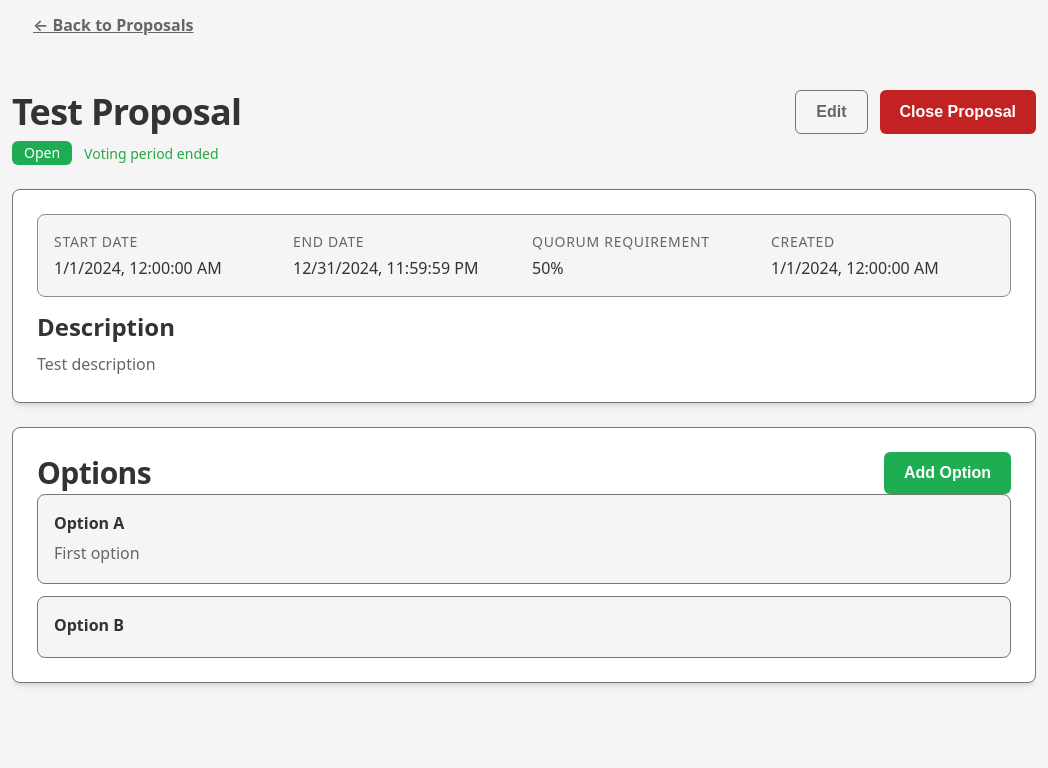
Test: AdminProposalDetailPage › cancels edit mode
The width and height of the screenshot is (1048, 768).
Step 1. Click the button "Edit" → (831, 112), box [795,90,868,134]
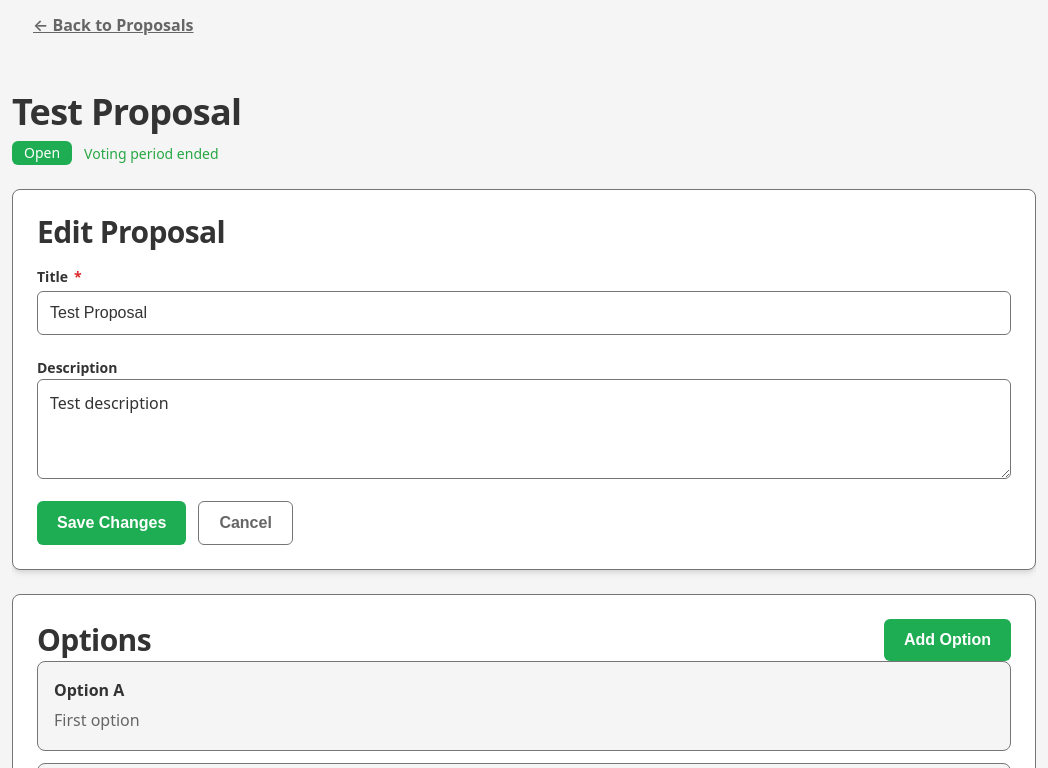
Check: the heading "Edit Proposal" is shown, box [37,211,225,252]
Step 2. Click the button "Cancel" → (246, 523), box [198,501,293,545]
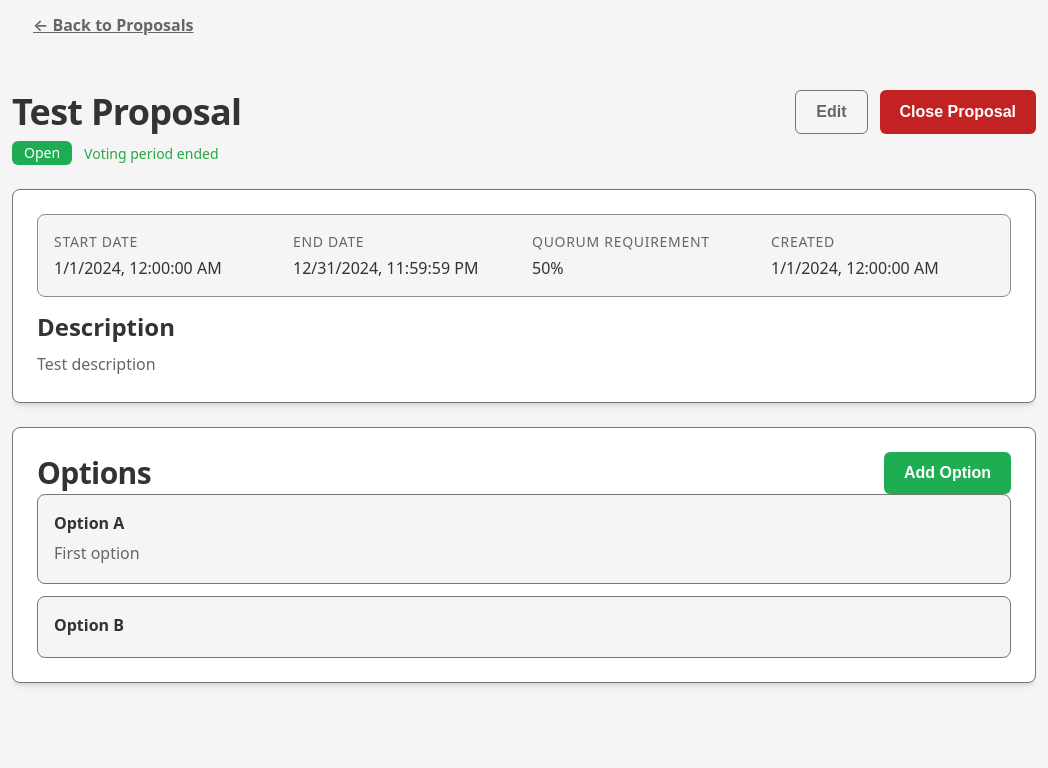
Check: the heading "Edit Proposal" is gone
